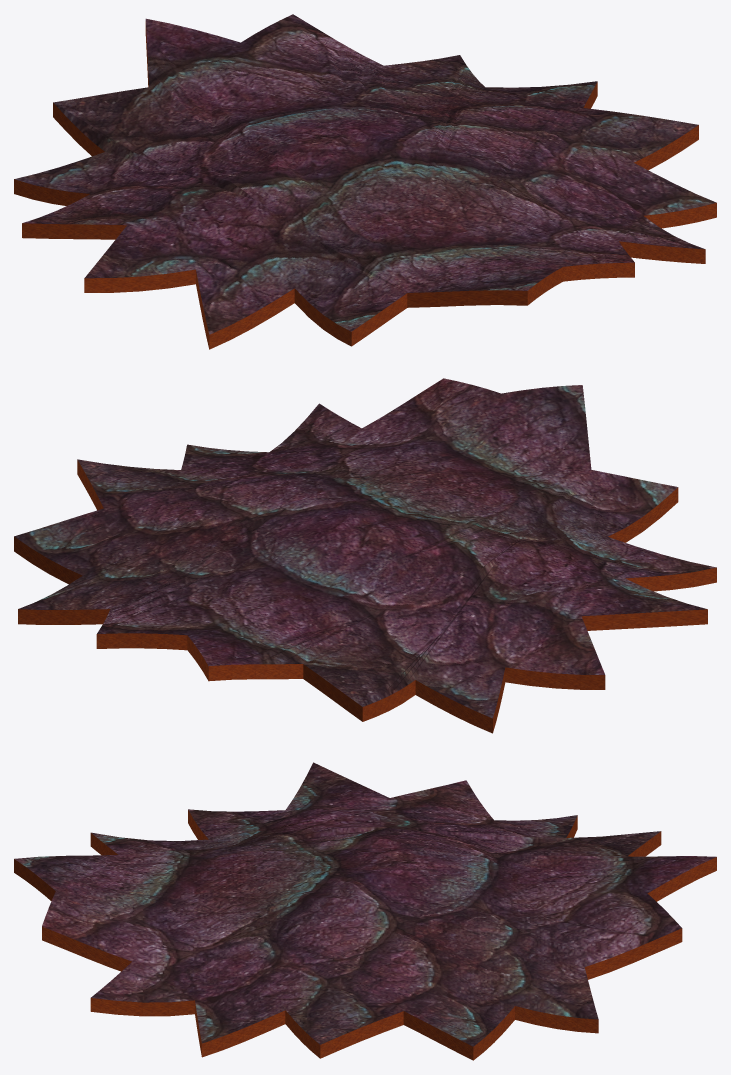
File: monster_hide.obj
3 views of the same model, one above another, from view 1: azimuth 30°, elevation 25°; view 2: azimuth 150°, elevation 25°; view 3: azimuth 270°, elevation 25° (orthographic). The views are drawn at different scales.
Parts seen in each view (by area): view 1: sheet; view 2: sheet; view 3: sheet.
Boxes of the visible parts, box(x1,y1,x2,y2) form: sheet: box(14, 14, 716, 349); sheet: box(14, 378, 716, 733); sheet: box(14, 762, 716, 1060).
Size of the model in its own units: 112 by 13.13 by 118.
1 material, 1 textured.
